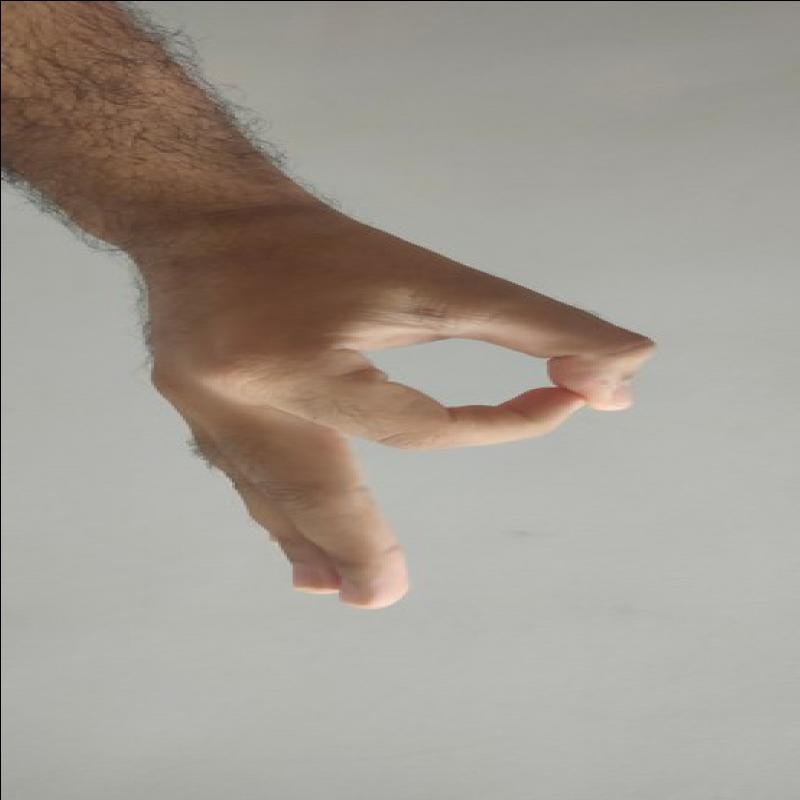Mudraakhyam: (122, 209, 667, 617)
